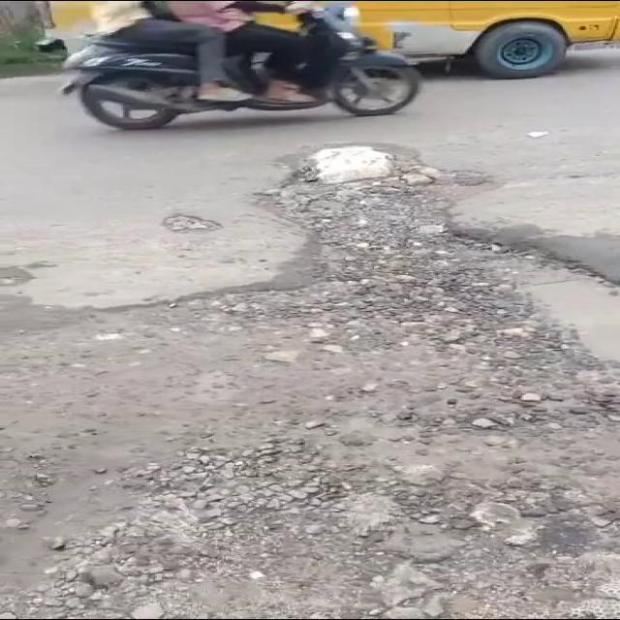lubang: (160, 208, 219, 238)
